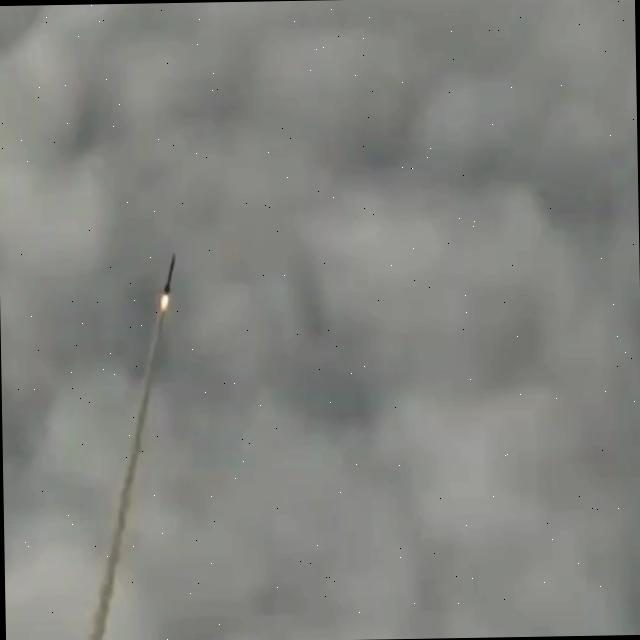smoke_trail_with_rocket: (86, 254, 176, 640)
